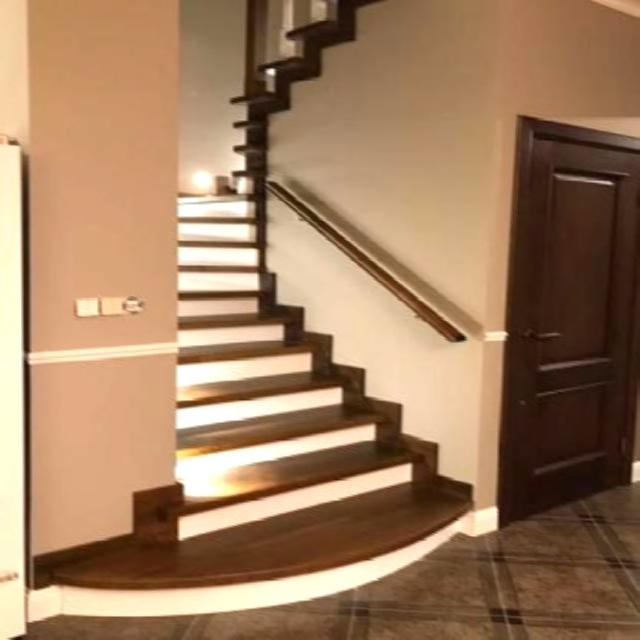stair: (126, 16, 548, 564)
